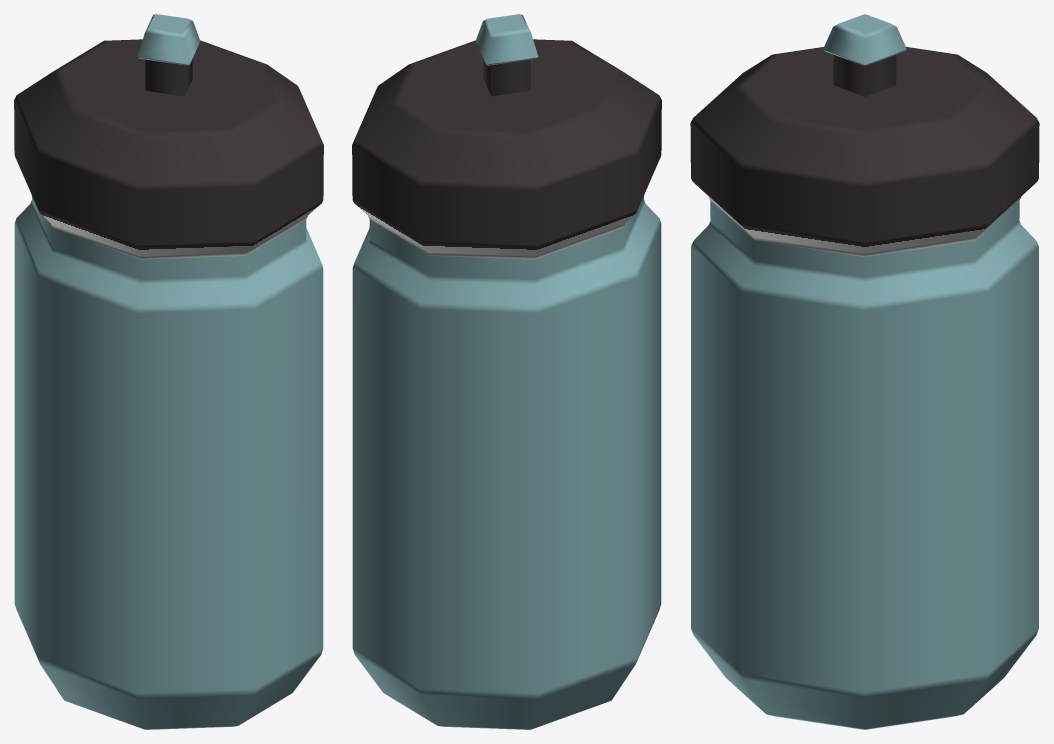
The model's file is grenade.fbx.
The picture shows the model from 3 angles, left to right: view 1: azimuth 30°, elevation 25°; view 2: azimuth 150°, elevation 25°; view 3: azimuth 270°, elevation 25°; orthographic projection.
Parts seen in each view (by area): view 1: grenade; view 2: grenade; view 3: grenade.
Part boxes in pixels (left/top/right/bottom): grenade: left=14, top=14, right=323, bottom=729; grenade: left=352, top=14, right=661, bottom=729; grenade: left=690, top=14, right=1039, bottom=729.
Size of the model in its own units: 7 by 16.75 by 8.03.
